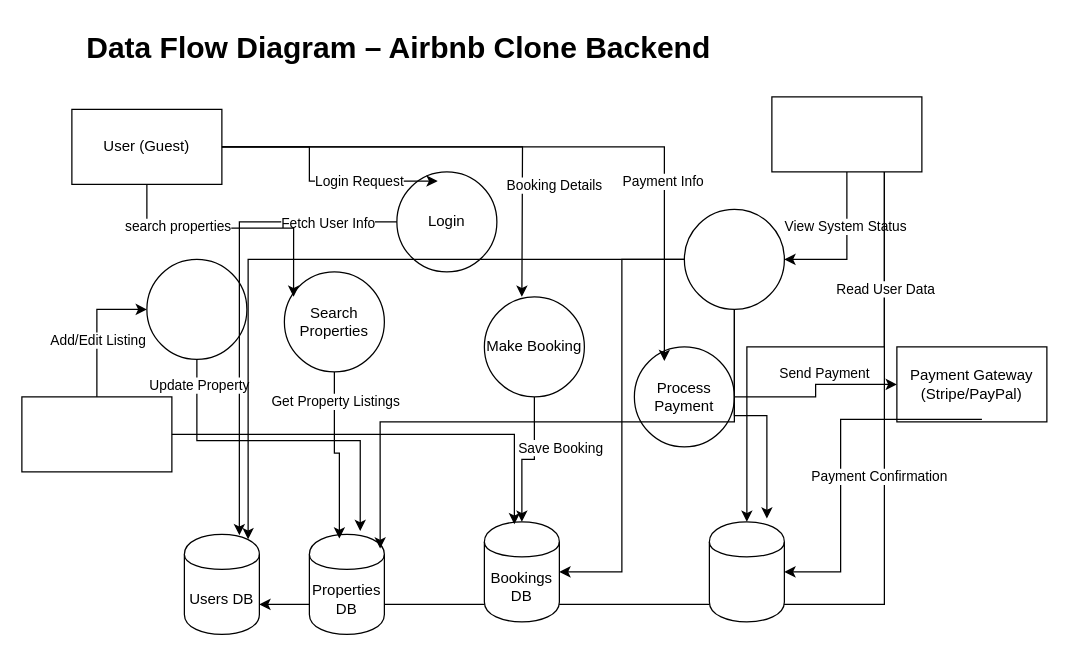
Some shapes in this 1069 by 656 pixel diagram are drawn without their labels. The shapes that lost their labels are listed below. From the top down, each one's centre as x and y in pixels, then its label:
(846,134): Admin
(733,258): Admin Monitor System
(196,308): Manage Listings
(96,434): Host
(746,571): Payments DB
